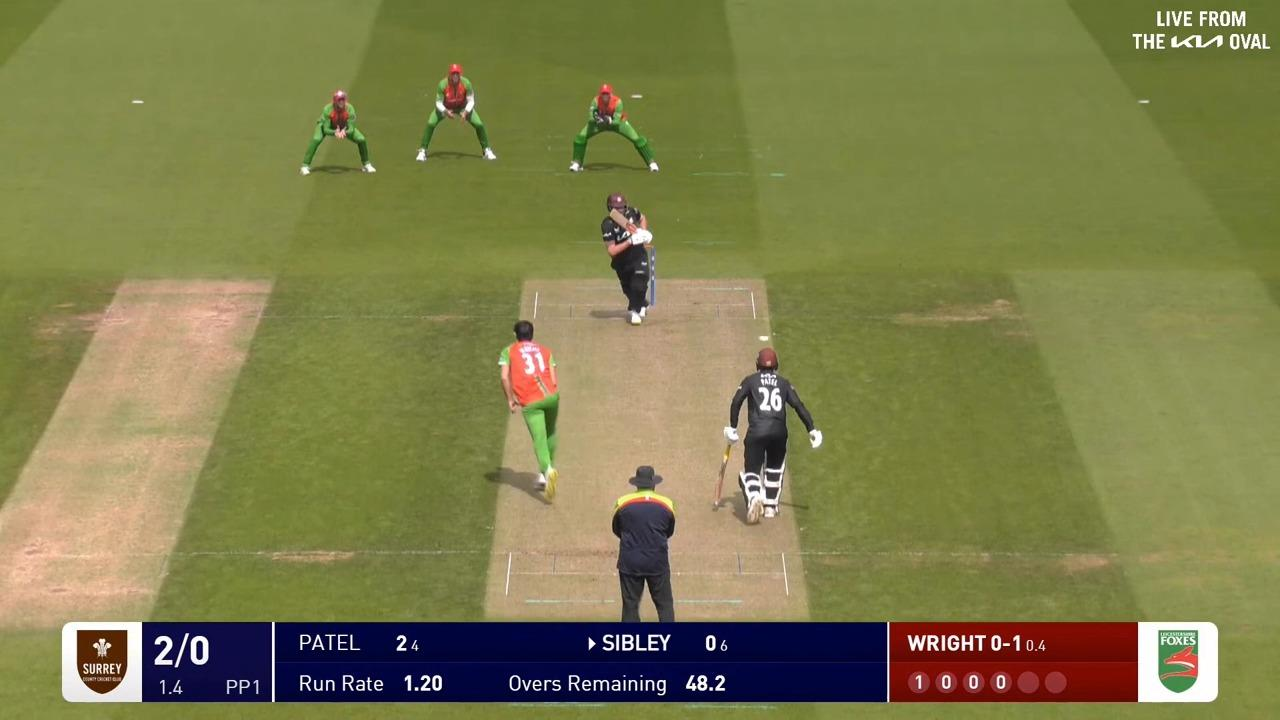sports ball: (760, 336, 768, 341)
